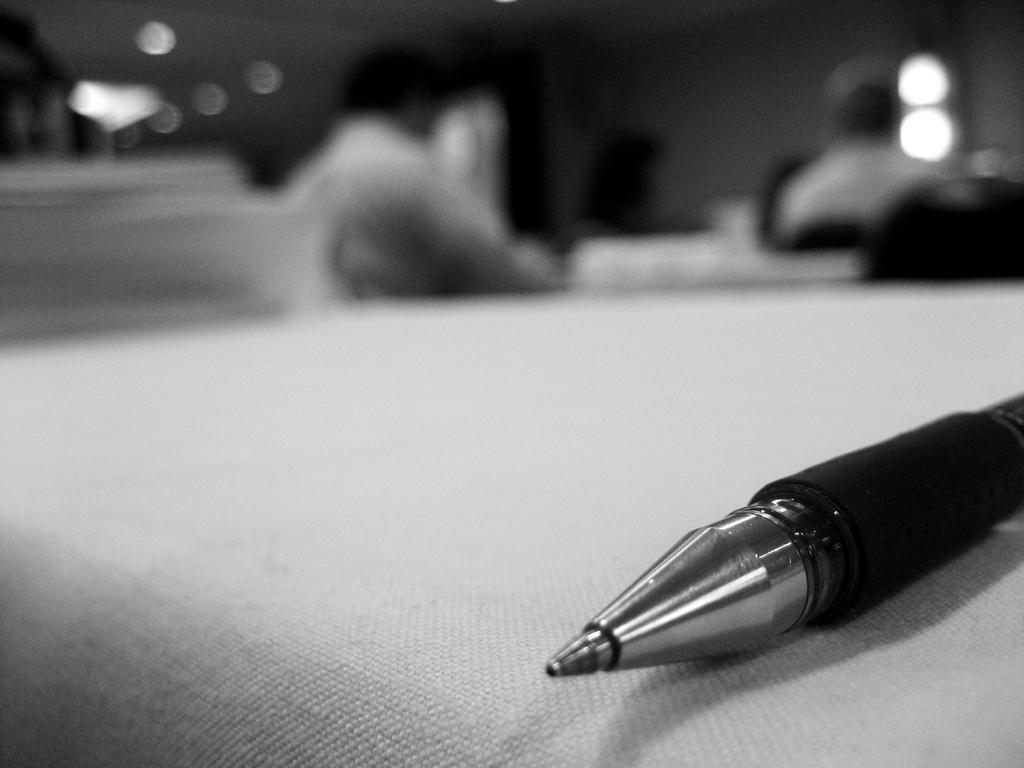pen: (541, 393, 1023, 680)
